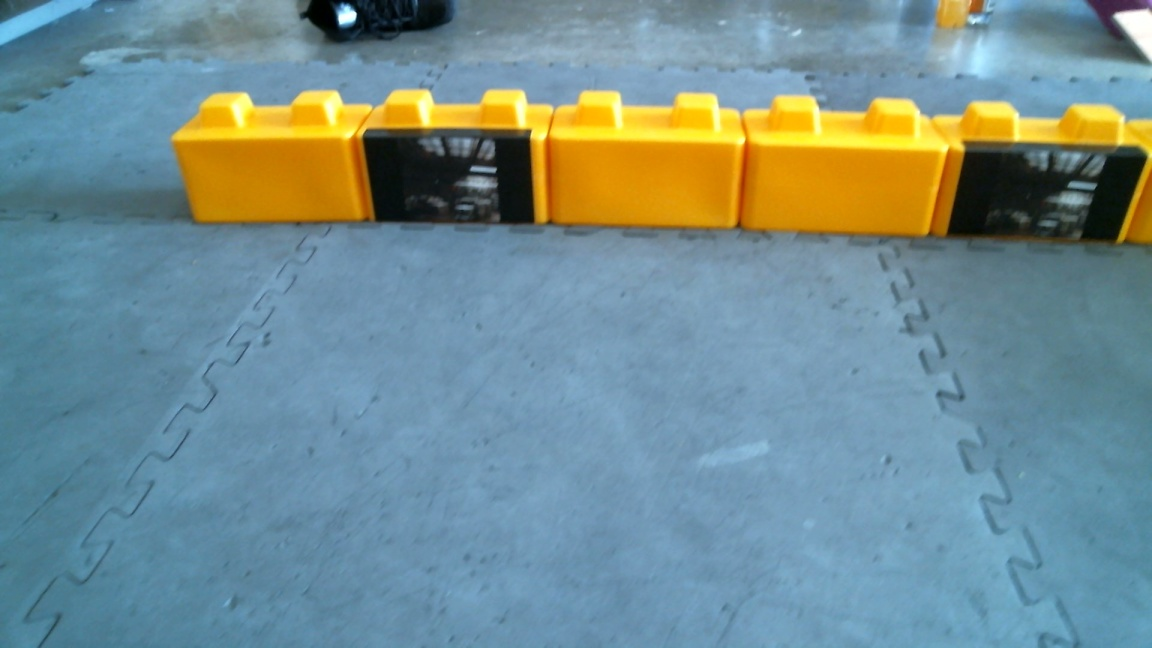center: (188, 90, 739, 235)
left: (352, 86, 938, 240)
right: (546, 94, 1143, 243)
